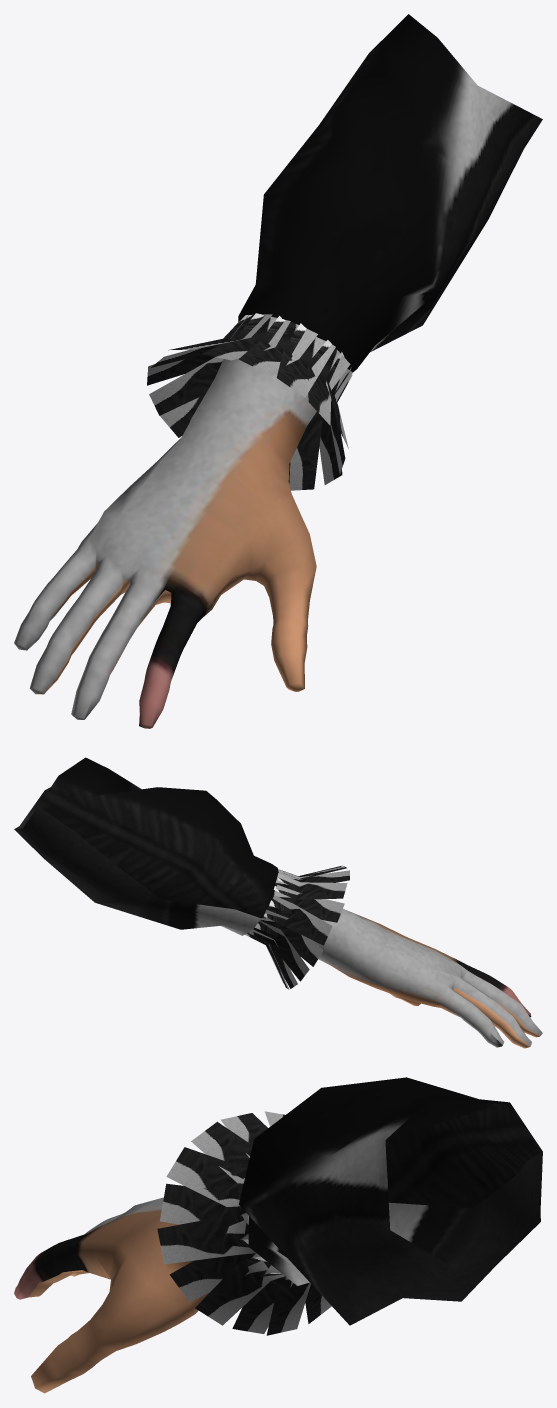
The model's file is Larm2.obj.
The picture shows the model from 3 angles, top to bottom: view 1: azimuth 30°, elevation 25°; view 2: azimuth 150°, elevation 25°; view 3: azimuth 270°, elevation 25°; orthographic projection. The views are drawn at different scales.
Visible parts, largest first — view 1: Nier2b:Cube polySurface62 polySurface59 polySurface56 polySurfac, Nier2b:Cube polySurface56 polySurface53 polySurface51 polySurfac, Nier2b:Cube polySurface31, Nier2b:Cube polySurface33, polySurface41 Nier2b:Cube, Nier2b:Cube polySurface38, Nier2b:Cube polySurface37, Nier2b:Cube polySurface35, Nier2b:Cube polySurface32, Nier2b:Cube polySurface40; view 2: Nier2b:Cube polySurface62 polySurface59 polySurface56 polySurfac, Nier2b:Cube polySurface56 polySurface53 polySurface51 polySurfac, Nier2b:Cube polySurface40, Nier2b:Cube polySurface30, Nier2b:Cube polySurface43, Nier2b:Cube polySurface33, Nier2b:Cube polySurface42, Nier2b:Cube polySurface35, Nier2b:Cube polySurface29; view 3: Nier2b:Cube polySurface62 polySurface59 polySurface56 polySurfac, Nier2b:Cube polySurface56 polySurface53 polySurface51 polySurfac, Nier2b:Cube polySurface34, Nier2b:Cube polySurface31, Nier2b:Cube polySurface32, Nier2b:Cube polySurface37, Nier2b:Cube polySurface36, polySurface41 Nier2b:Cube, Nier2b:Cube polySurface28, Nier2b:Cube polySurface38, Nier2b:Cube polySurface35, Nier2b:Cube polySurface39.
Boxes of the visible parts, <box> form: Nier2b:Cube polySurface62 polySurface59 polySurface56 polySurfac: <box>190,14,542,464</box>; Nier2b:Cube polySurface56 polySurface53 polySurface51 polySurfac: <box>14,420,316,728</box>; Nier2b:Cube polySurface31: <box>276,323,335,397</box>; Nier2b:Cube polySurface33: <box>149,357,223,415</box>; polySurface41 Nier2b:Cube: <box>238,316,317,374</box>; Nier2b:Cube polySurface38: <box>289,411,322,490</box>; Nier2b:Cube polySurface37: <box>307,340,350,425</box>; Nier2b:Cube polySurface35: <box>202,313,290,360</box>; Nier2b:Cube polySurface32: <box>319,375,352,484</box>; Nier2b:Cube polySurface40: <box>147,320,240,385</box>; Nier2b:Cube polySurface62 polySurface59 polySurface56 polySurfac: <box>14,757,350,956</box>; Nier2b:Cube polySurface56 polySurface53 polySurface51 polySurfac: <box>318,910,542,1048</box>; Nier2b:Cube polySurface40: <box>264,895,332,945</box>; Nier2b:Cube polySurface30: <box>269,885,344,922</box>; Nier2b:Cube polySurface43: <box>273,873,347,899</box>; Nier2b:Cube polySurface33: <box>255,909,323,966</box>; Nier2b:Cube polySurface42: <box>248,920,309,981</box>; Nier2b:Cube polySurface35: <box>278,869,349,888</box>; Nier2b:Cube polySurface29: <box>245,929,297,988</box>; Nier2b:Cube polySurface62 polySurface59 polySurface56 polySurfac: <box>239,1077,542,1325</box>; Nier2b:Cube polySurface56 polySurface53 polySurface51 polySurfac: <box>14,1197,209,1393</box>; Nier2b:Cube polySurface34: <box>157,1215,255,1264</box>; Nier2b:Cube polySurface31: <box>166,1147,246,1206</box>; Nier2b:Cube polySurface32: <box>195,1257,284,1325</box>; Nier2b:Cube polySurface37: <box>160,1183,247,1233</box>; Nier2b:Cube polySurface36: <box>169,1239,268,1301</box>; polySurface41 Nier2b:Cube: <box>191,1121,252,1183</box>; Nier2b:Cube polySurface28: <box>266,1279,310,1335</box>; Nier2b:Cube polySurface38: <box>232,1272,293,1333</box>; Nier2b:Cube polySurface35: <box>220,1113,267,1157</box>; Nier2b:Cube polySurface39: <box>302,1284,331,1323</box>.
Bounding box in the file's own units: 7.11 × 4.68 × 4.81.
Materials: 1 (1 with a texture image).
